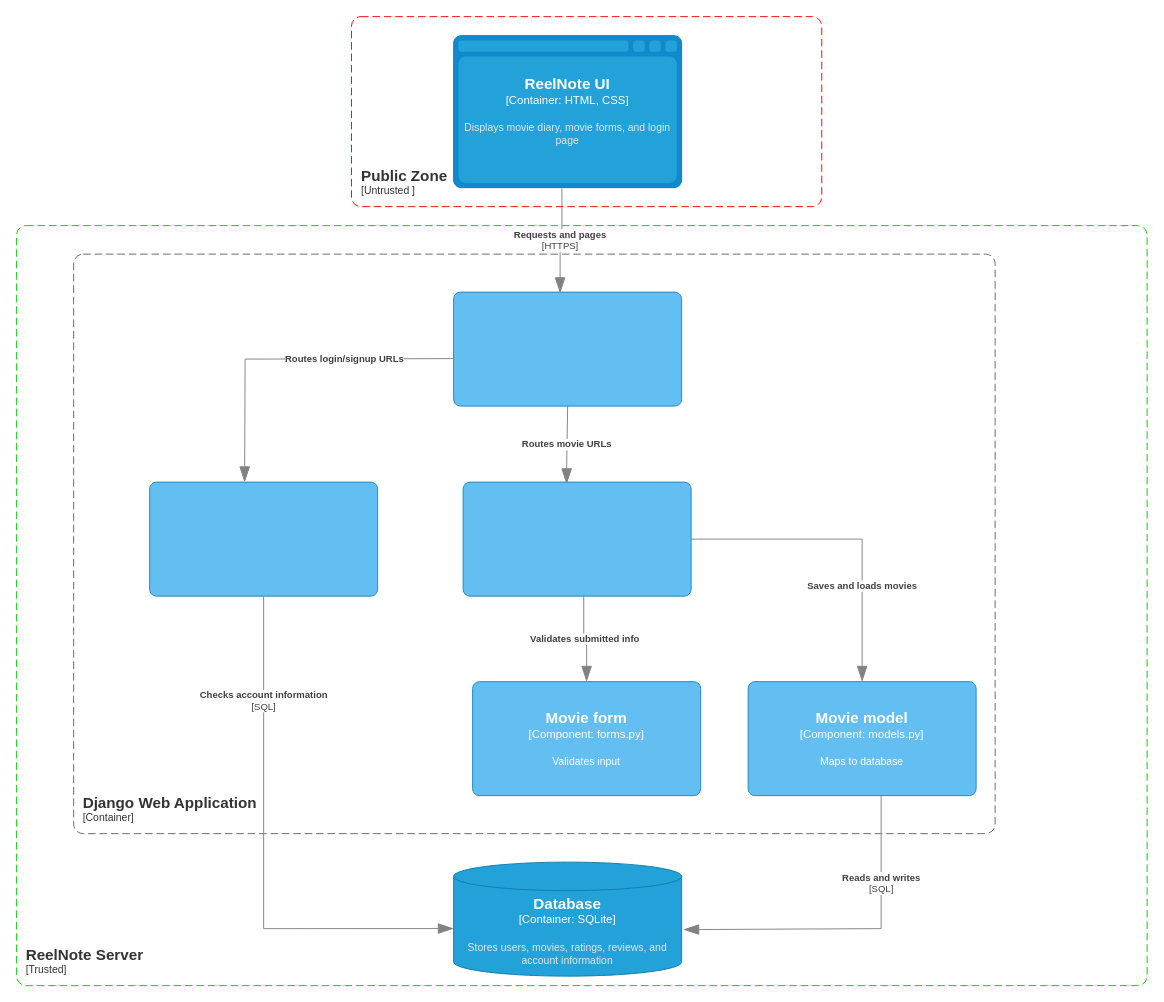
This 1164x1002 diagram has some shape labels left out. Here are the shapes that lost their labels. From the top down, the centre of each, then its label:
At point 567,348: "URL Router [Component: urls.py] Routes requests to views".
At point 263,538: "Authentication [Component: django.contrib.auth] Login, logout, sign up".
At point 576,538: "Movie view [Component: views.py] List, add, edit, delete movies".
